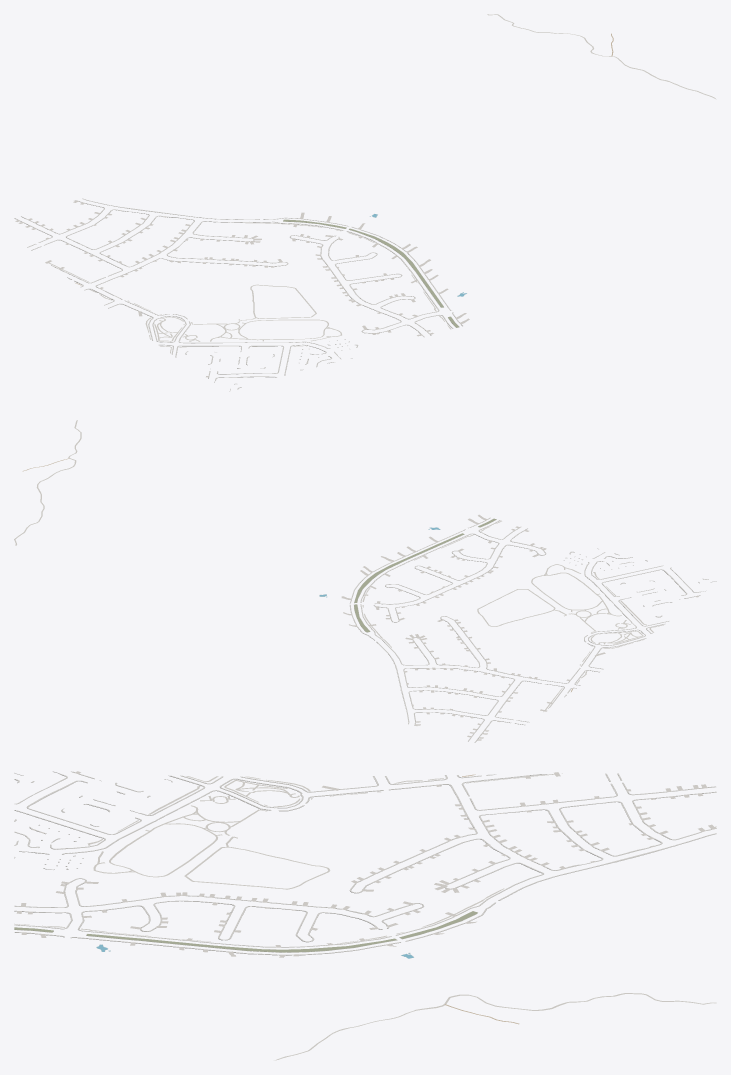
The model's file is ground_r2_c5.glb.
The picture shows the model from 3 angles, top to bottom: view 1: azimuth 30°, elevation 25°; view 2: azimuth 150°, elevation 25°; view 3: azimuth 270°, elevation 25°; orthographic projection. The views are drawn at different scales.
Visible parts, largest first — view 1: sidewalks, paths, driveways, medians; view 2: sidewalks, paths, driveways, medians; view 3: sidewalks, paths, driveways, medians.
Part boxes in pixels (<box>): sidewalks: <box>14,198,462,391</box>; paths: <box>48,14,716,353</box>; driveways: <box>15,200,469,377</box>; medians: <box>283,219,459,327</box>; sidewalks: <box>349,517,716,742</box>; paths: <box>14,420,663,725</box>; driveways: <box>341,514,698,740</box>; medians: <box>354,518,496,632</box>; sidewalks: <box>14,771,716,955</box>; paths: <box>14,773,716,1060</box>; driveways: <box>16,771,716,957</box>; medians: <box>14,911,477,952</box>.
Bounding box in the file's own units: 1130 × 201 × 788.
